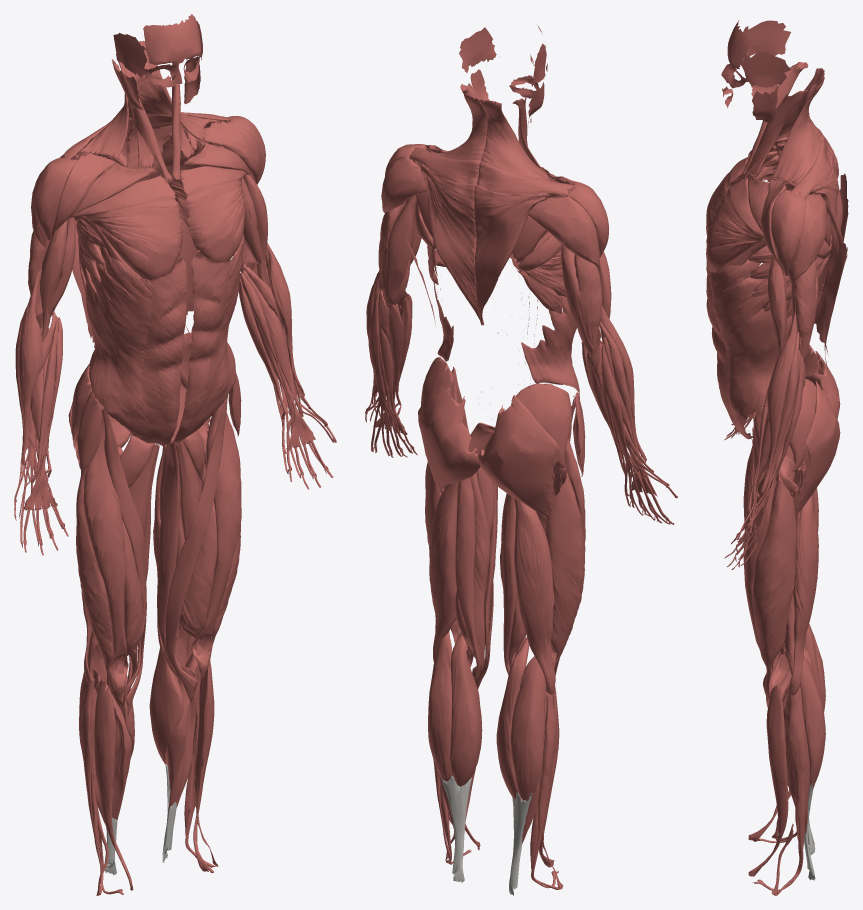
File: musculos.h.glb
3 views of the same model, side by side, from view 1: azimuth 30°, elevation 25°; view 2: azimuth 150°, elevation 25°; view 3: azimuth 270°, elevation 25° (orthographic). The views are drawn at different scales.
Visible parts, largest first — view 1: capa; view 2: capa; view 3: capa.
Part boxes in pixels (x1=…): capa: x1=14, y1=14, x2=336, y2=895; capa: x1=365, y1=25, x2=677, y2=895; capa: x1=706, y1=20, x2=848, y2=895.
Size of the model in its own units: 0.6388 by 1.66 by 0.2547.
